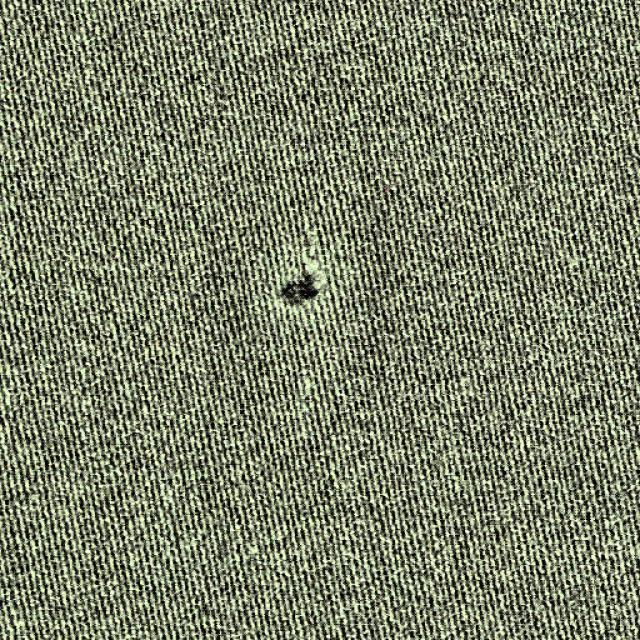cut: (249, 233, 359, 336)
